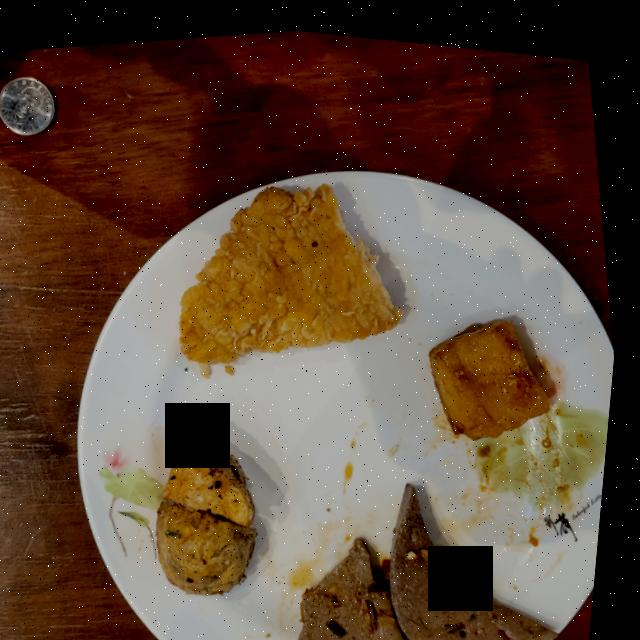coin: (0, 76, 56, 135)
creamy tofu: (434, 308, 554, 428)
fried chicken cutlet: (184, 176, 407, 359)
fried potato: (164, 424, 265, 589)
pig liver: (309, 475, 565, 640)
